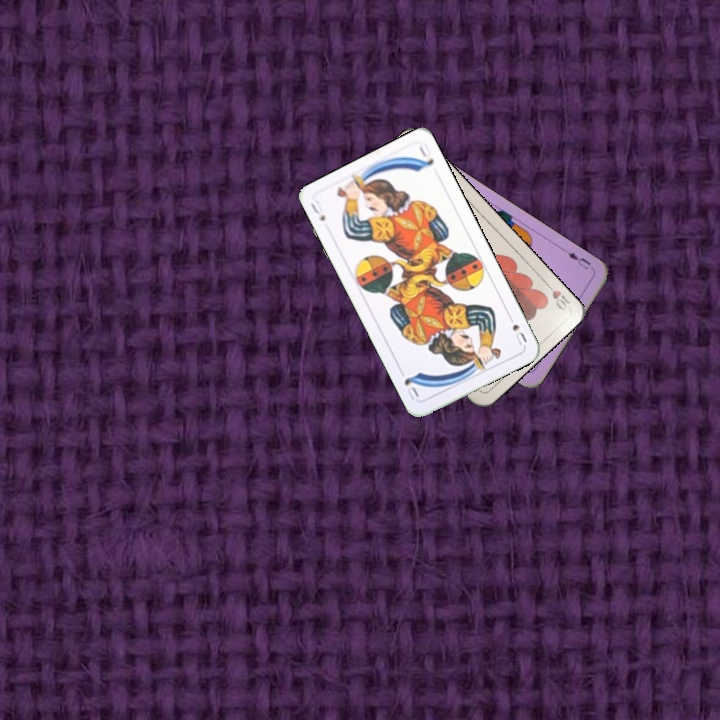EU: (560, 245, 594, 272)
H10: (541, 277, 573, 313)
SU: (504, 310, 530, 348), (306, 196, 328, 224)
